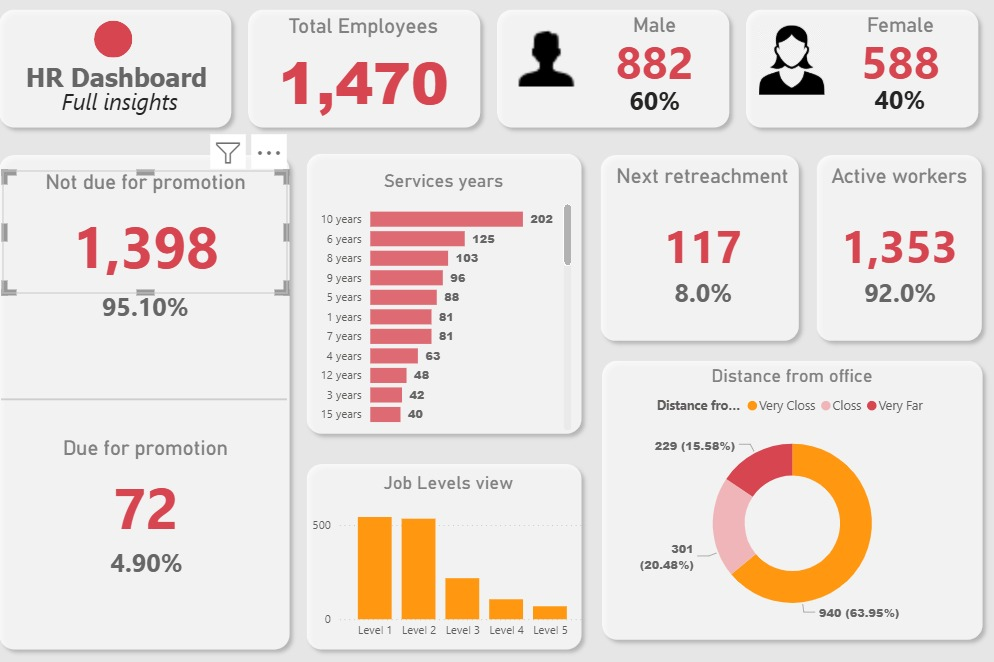

This screenshot's page, from the dashboard's own definition file:
{"tool":"powerbi","page":{"name":"Page 1","canvas":[1308,766],"ordinal":0},"visuals":[{"type":"actionButton","box":[0,0,100,40],"z":0},{"type":"textbox","box":[329.1,0,300.5,171.7],"z":1000},{"type":"textbox","box":[640.1,0,300.5,182.1],"z":2000},{"type":"textbox","box":[966,0,301.9,201.7],"z":3000},{"type":"textbox","box":[1079.8,222.5,188.6,201.6],"z":4000},{"type":"textbox","box":[815.7,222.5,248.5,201.6],"z":5000},{"type":"donutChart","title":"Distance from office","fields":{"Category":["HR Analytics Data.Distance Category"],"Y":["HR Analytics Data.Total Employees"]},"box":[815.7,438.4,448.8,314.8],"z":6000},{"type":"clusteredBarChart","title":"Service ear","fields":{"Category":["HR Analytics Data.YearsAtCompany"],"Y":["HR Analytics Data.Total Employees"]},"box":[329.1,201.6,472.2,366.9],"z":7000},{"type":"columnChart","title":"Job Levels","fields":{"Category":["HR Analytics Data.JobLevel"],"Y":["HR Analytics Data.Total Employees"]},"box":[373.4,590.6,385.1,162.6],"z":8000},{"type":"textbox","box":[0,19.5,300.5,166.5],"z":9000},{"type":"textbox","box":[0,201.6,300.5,205.6],"z":10000},{"type":"textbox","box":[1.3,424.1,300.5,195.1],"z":11000}]}

Visuals, with their boxes on the page's 1308x766 design canvas (x1, y1, x2, y2). These are canvas units, not pixel positions in the 994x662 screenshot, which may show the page scaled, cropped or inside an application window:
actionButton: left=0, top=0, right=100, bottom=40
textbox: left=329, top=0, right=630, bottom=172
textbox: left=640, top=0, right=941, bottom=182
textbox: left=966, top=0, right=1268, bottom=202
textbox: left=1080, top=222, right=1268, bottom=424
textbox: left=816, top=222, right=1064, bottom=424
"Distance from office" donutChart: left=816, top=438, right=1264, bottom=753
"Service ear" clusteredBarChart: left=329, top=202, right=801, bottom=568
"Job Levels" columnChart: left=373, top=591, right=758, bottom=753
textbox: left=0, top=20, right=300, bottom=186
textbox: left=0, top=202, right=300, bottom=407
textbox: left=1, top=424, right=302, bottom=619
